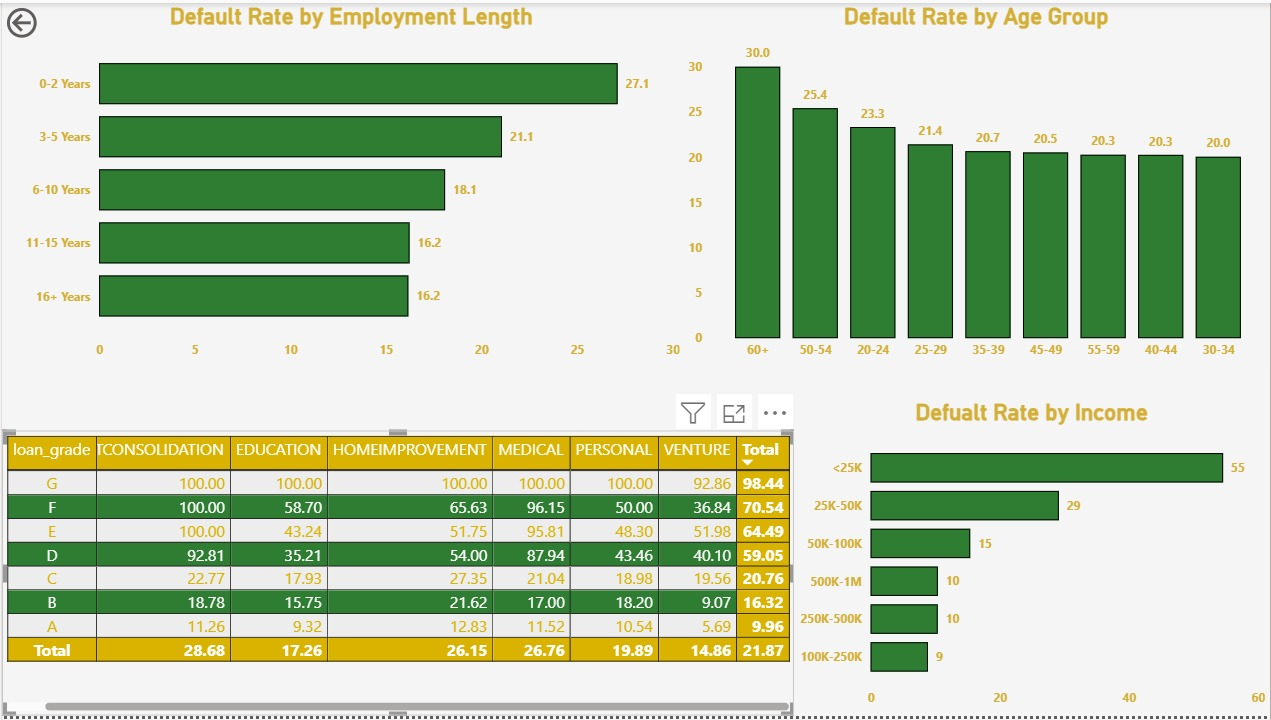

Layout of this report page (visuals, bound fields, positions):
{"tool":"powerbi","page":{"name":"Risk Analysis","canvas":[1280,720],"ordinal":3},"visuals":[{"type":"barChart","title":"Default Rate by Employment Length","fields":{"Y":["Measurement.defualt_rate"],"Category":["credit_risk_dataset.Employment Group"]},"box":[16,0,672,368],"z":0},{"type":"clusteredColumnChart","title":"Default Rate by Age Group","fields":{"Y":["Measurement.defualt_rate"],"Category":["credit_risk_dataset.Age Group"]},"box":[688,0,592,368],"z":1000},{"type":"pivotTable","fields":{"Rows":["credit_risk_dataset.loan_grade"],"Columns":["credit_risk_dataset.loan_intent"],"Values":["Measurement.defualt_rate"]},"box":[0,432,800,288],"z":2000},{"type":"actionButton","box":[0,0,100,40],"z":3000},{"type":"clusteredBarChart","title":"Default Rate by Income","fields":{"Category":["credit_risk_dataset.Income Group"],"Y":["Measurement.defualt_rate"]},"box":[800,400,480,320],"z":4000}]}

Visuals, with their boxes in screenshot pixels (x1, y1, x2, y2), scaled from the page's 1280x720 canvas onto the 1271x720 screenshot:
"Default Rate by Employment Length" barChart: locate(16, 0, 683, 368)
"Default Rate by Age Group" clusteredColumnChart: locate(683, 0, 1270, 368)
pivotTable - credit_risk_dataset.loan_grade x credit_risk_dataset.loan_intent: locate(0, 432, 794, 719)
actionButton: locate(0, 0, 99, 40)
"Default Rate by Income" clusteredBarChart: locate(794, 400, 1270, 719)
